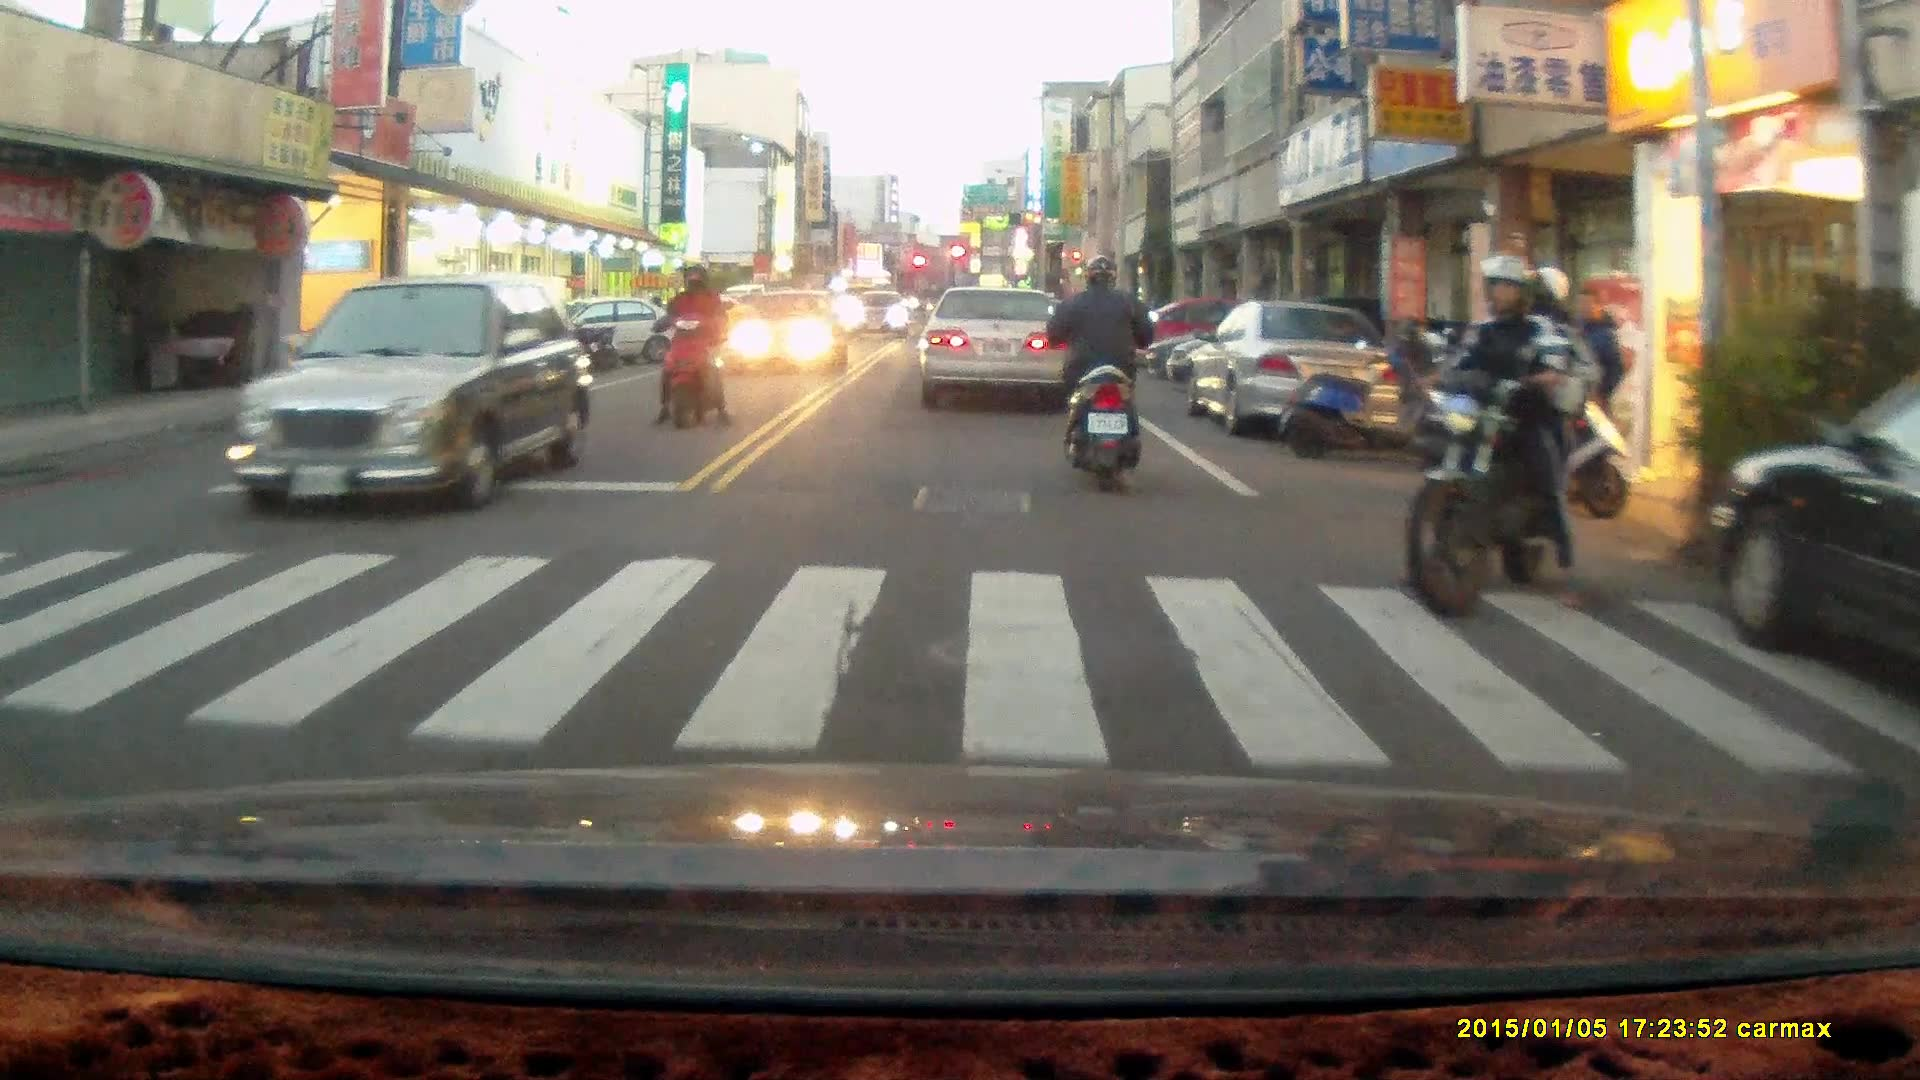pedestrian: (1563, 283, 1625, 481)
rider: (1405, 256, 1605, 610), (1042, 251, 1158, 489), (650, 261, 732, 431)
vehicle: (236, 273, 594, 517), (1698, 358, 1920, 700), (1193, 304, 1412, 443), (923, 287, 1078, 393), (720, 286, 843, 375), (843, 287, 919, 345)
